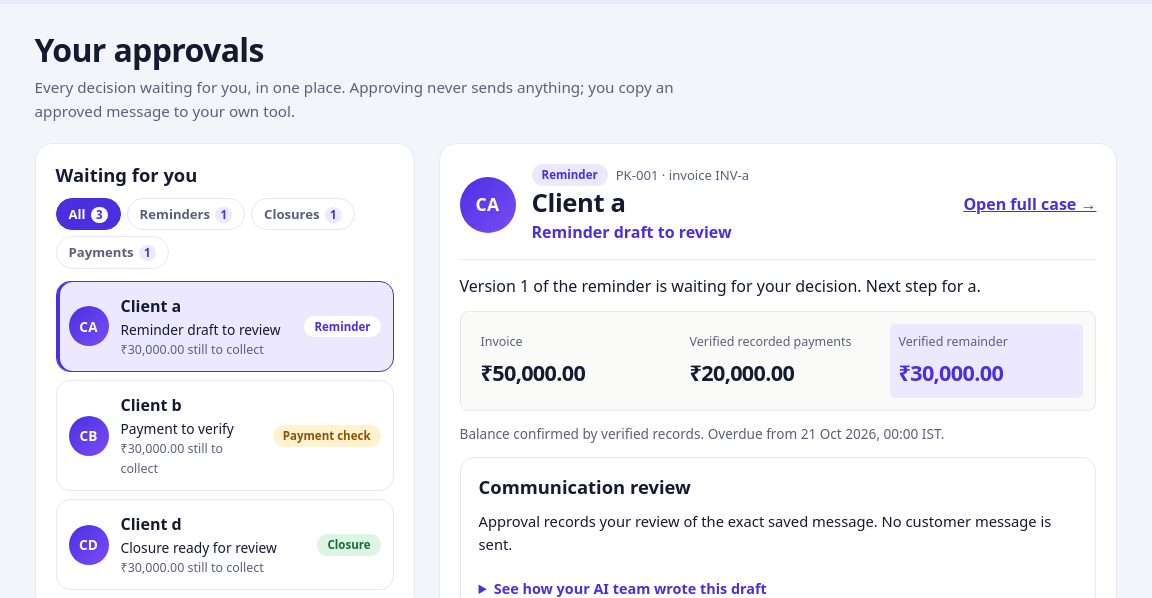
Scenario: ApprovalsPage › shows the exact closure review for a closure item
Step 1. Click the link that starts with "Client d" → (224, 545), box x1=56 y1=499 x2=394 y2=590
(page scrolled)
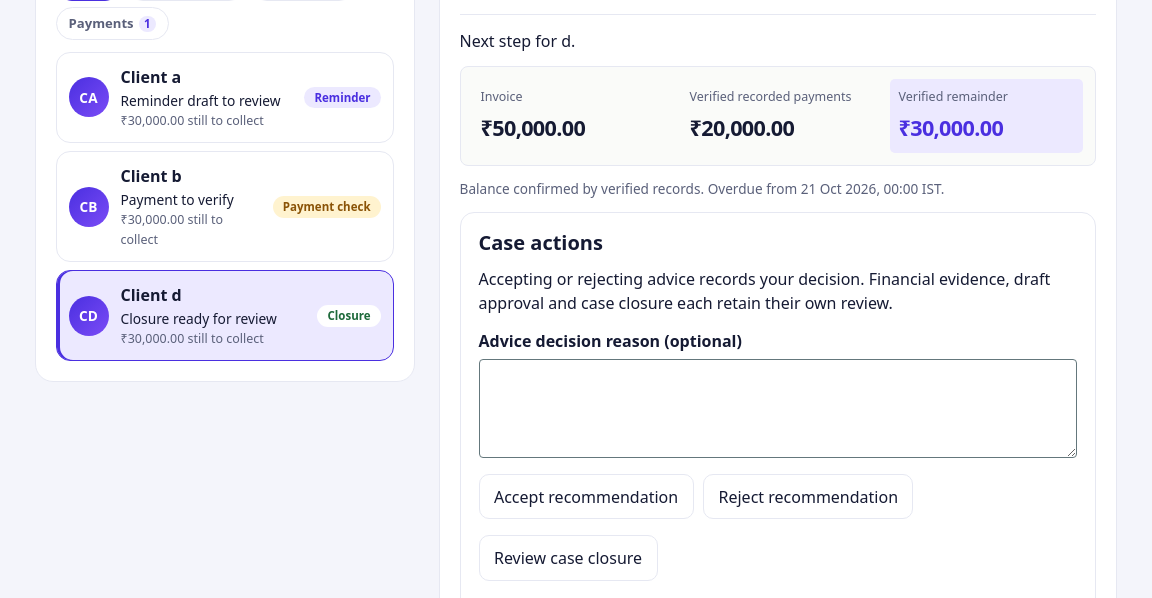
Step 2. Click the button "Review case closure" → (568, 558), box x1=478 y1=535 x2=658 y2=581
(page scrolled)
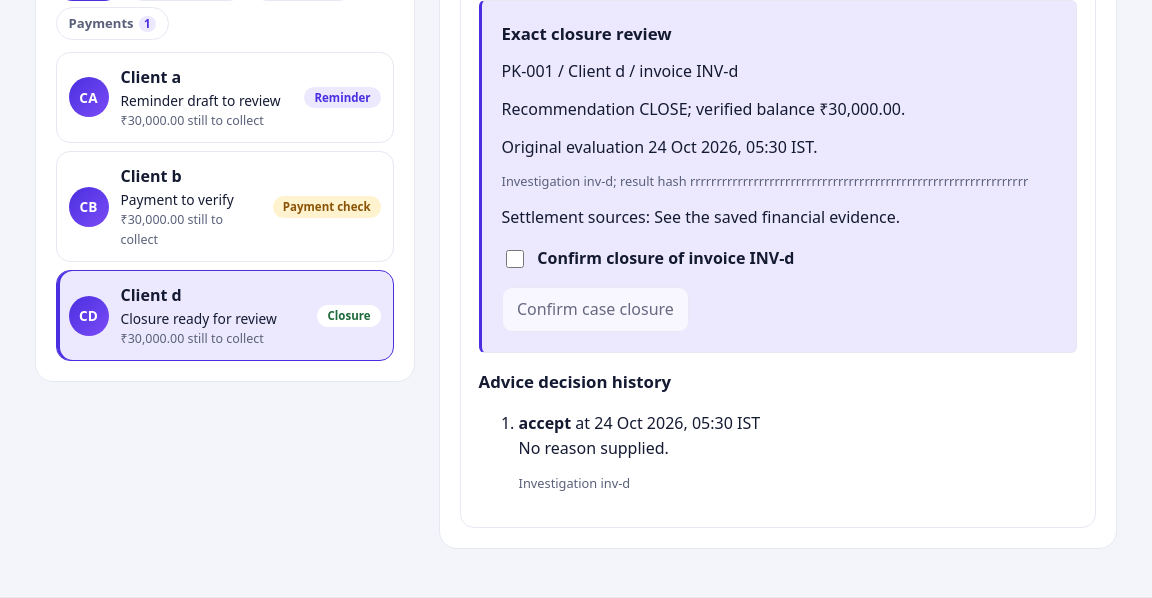
Expected: the heading "Exact closure review" is shown, x1=502 y1=22 x2=672 y2=45
Expected: the button "Confirm case closure" is disabled, x1=502 y1=287 x2=689 y2=332
Step 3. Click the checkbox labelled "Confirm closure of invoice INV-d" → (515, 259), box x1=506 y1=250 x2=524 y2=268
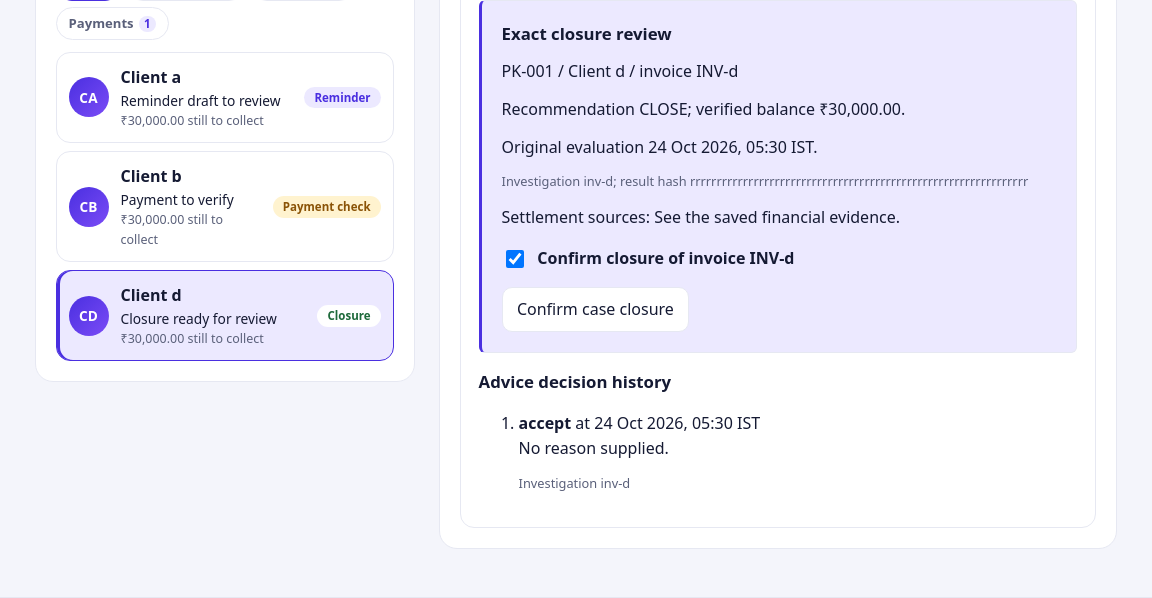
Expected: the button "Confirm case closure" is enabled, x1=502 y1=287 x2=689 y2=332
